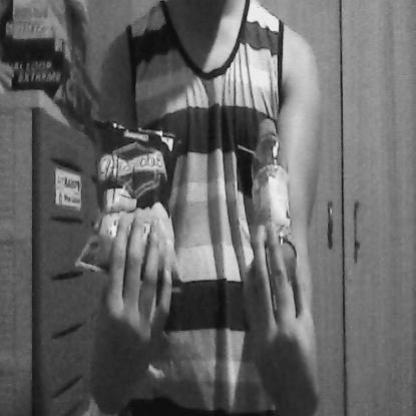Plastic Bottle: (248, 110, 299, 290)
